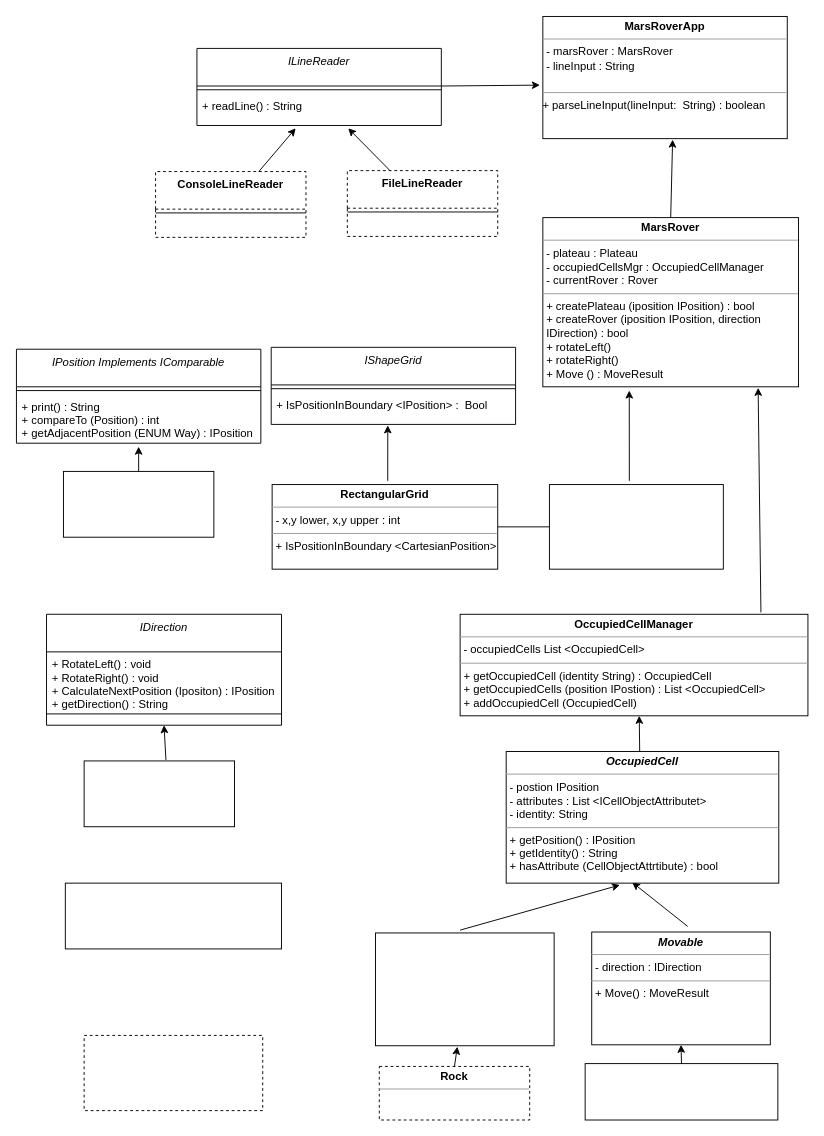
The diagram is 824 pixels wide and 1136 high, and some of its shapes have lost their labels. The centre of each missing label's shape, as x and y in pixels:
CartesianPosition + x, y : int: point 138,503
CompassDirection - direction ENUM N, S E W: point 159,793
IMarsObjectAttribute: point 173,1072
MarsRover: point 681,1091
MoveResult ENUM OK, BLOCKED, OUT_OF_ BOUNDARY: point 173,915
Plateau - grid : IShapeGrid: point 635,526
Static: point 464,989
